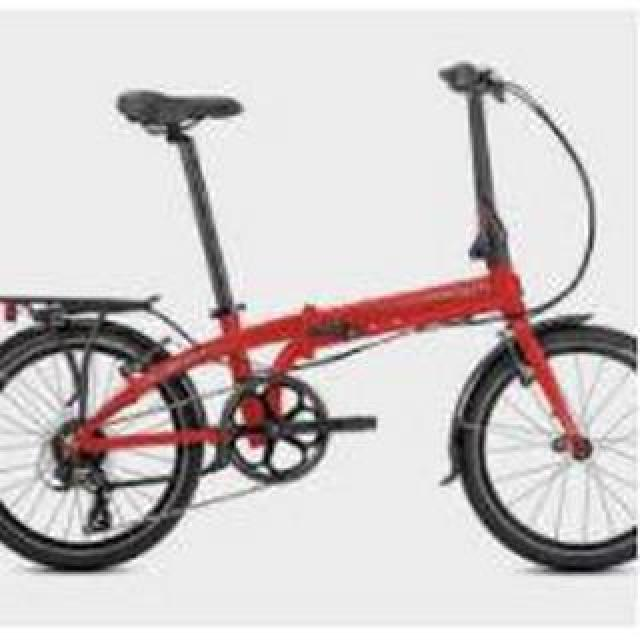Person: (4, 51, 640, 575)
